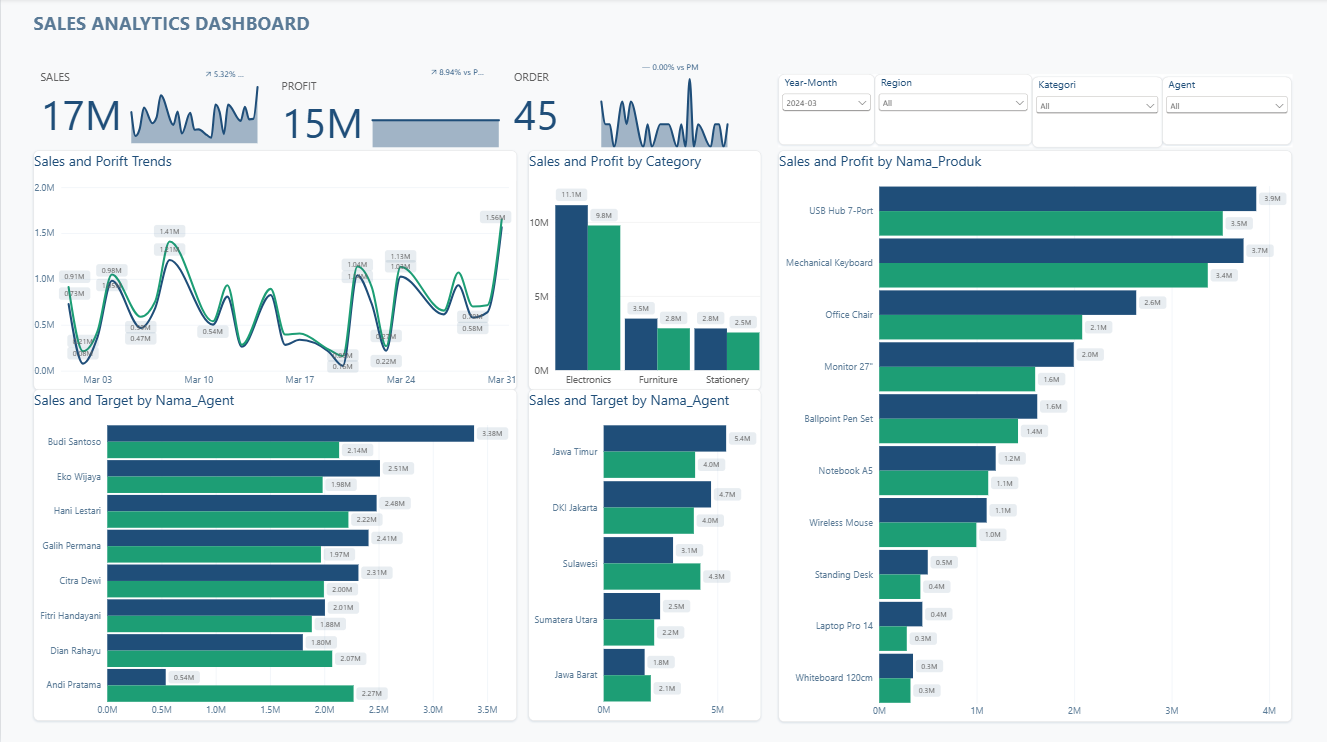

The dashboard page shown, as its layout file describes it:
{"tool":"powerbi","page":{"name":"Page 1","canvas":[1920,1080],"ordinal":0},"visuals":[{"type":"cardVisual","fields":{"Data":["Calendar.Sales CM"]},"box":[30,85.7,175.7,141.4],"z":0},{"type":"cardVisual","fields":{"Data":["Calendar.Sales MoM Label"]},"box":[270,85.7,109.9,48.5],"z":1000},{"type":"areaChart","fields":{"Y":["Sum(Fact_Transactions.Total_Sales)"],"Category":["Calendar.Date.Variation.Date Hierarchy.Year","Calendar.Date.Variation.Date Hierarchy.Quarter","Calendar.Date.Variation.Date Hierarchy.Month","Calendar.Date.Variation.Date Hierarchy.Day"]},"box":[168.6,91.4,222.7,128.5],"z":2000},{"type":"cardVisual","fields":{"Data":["Calendar.Orders CM"]},"box":[717.1,90,152.9,130],"z":3000},{"type":"cardVisual","fields":{"Data":["Calendar.Profit MoM Label"]},"box":[605.7,90,111.2,34.3],"z":4000},{"type":"cardVisual","fields":{"Data":["Calendar.Orders MoM Label"]},"box":[911.4,72.9,159.8,52.7],"z":5000},{"type":"cardVisual","fields":{"Data":["Calendar.Profit CM"]},"box":[380,108.6,224.3,118.6],"z":6000},{"type":"areaChart","fields":{"Category":["Calendar.Date.Variation.Date Hierarchy.Year","Calendar.Date.Variation.Date Hierarchy.Quarter","Calendar.Date.Variation.Date Hierarchy.Month","Calendar.Date.Variation.Date Hierarchy.Day"],"Y":["Calendar.Profit CM"]},"box":[517.1,98.6,222.7,128.5],"z":7000},{"type":"areaChart","fields":{"Category":["Calendar.Date.Variation.Date Hierarchy.Year","Calendar.Date.Variation.Date Hierarchy.Quarter","Calendar.Date.Variation.Date Hierarchy.Month","Calendar.Date.Variation.Date Hierarchy.Day"],"Y":["Calendar.Orders"]},"box":[848.6,98.6,222.7,128.5],"z":8000},{"type":"lineChart","title":"Sales and Porift Trends","fields":{"Category":["Calendar.Date.Variation.Date Hierarchy.Year","Calendar.Date.Variation.Date Hierarchy.Quarter","Calendar.Date.Variation.Date Hierarchy.Month","Calendar.Date.Variation.Date Hierarchy.Day"],"Y":["Sum(Fact_Transactions.Profit)","Calendar.Sales"]},"box":[47.1,220,700,347.1],"z":9000},{"type":"clusteredColumnChart","title":"Sales and Profit by Category","fields":{"Y":["Calendar.Sales CM","Calendar.Profit CM"],"Category":["Dim_Produk.Kategori"]},"box":[762.9,220,337.1,347.1],"z":10000},{"type":"clusteredBarChart","title":"Sales and Profit by Nama_Produk","fields":{"Category":["Dim_Produk.Nama_Produk"],"Y":["Calendar.Sales CM","Calendar.Profit CM"]},"box":[1125.7,220,742.9,827.1],"z":11000},{"type":"clusteredBarChart","title":"Sales and Target by Nama_Agent","fields":{"Category":["Dim_Agent.Nama_Agent"],"Y":["Calendar.Sales CM","Calendar.Target"]},"box":[47.1,567.1,700,480],"z":12000},{"type":"clusteredBarChart","title":"Sales and Target by Nama_Agent","fields":{"Y":["Calendar.Sales CM","Calendar.Target"],"Category":["Dim_Agent.Region"]},"box":[762.9,567.1,337.1,480],"z":13000},{"type":"textbox","box":[47.1,18.6,544.2,54.3],"z":14000},{"type":"slicer","fields":{"Values":["Calendar.Year-Month"]},"box":[1125.7,110,139.1,102.1],"z":14000,"group":"g1"},{"type":"group","id":"g1","title":"Group 1","box":[1125.7,110,742.9,105.7],"z":15000},{"type":"slicer","fields":{"Values":["Dim_Agent.Region"]},"box":[1264.8,110,227.7,102.1],"z":15000,"group":"g1"},{"type":"slicer","fields":{"Values":["Dim_Produk.Kategori"]},"box":[1492.5,113.6,188.5,102.1],"z":16000,"group":"g1"},{"type":"slicer","fields":{"Values":["Dim_Agent.Nama_Agent"]},"box":[1681,113.6,187.6,98.4],"z":17000,"group":"g1"}]}

Visuals, with their boxes in screenshot pixels (x1, y1, x2, y2), scaled from the page's 1920x1080 canvas onto the 1327x742 screenshot:
cardVisual - Calendar.Sales CM: locate(21, 59, 142, 156)
cardVisual - Calendar.Sales MoM Label: locate(187, 59, 263, 92)
areaChart - Sum(Fact_Transactions.Total_Sales) x Calendar.Date.Variation.Date Hierarchy.Year: locate(117, 63, 270, 151)
cardVisual - Calendar.Orders CM: locate(496, 62, 601, 151)
cardVisual - Calendar.Profit MoM Label: locate(419, 62, 495, 85)
cardVisual - Calendar.Orders MoM Label: locate(630, 50, 740, 86)
cardVisual - Calendar.Profit CM: locate(263, 75, 418, 156)
areaChart - Calendar.Date.Variation.Date Hierarchy.Year x Calendar.Date.Variation.Date Hierarchy.Quarter: locate(357, 68, 511, 156)
areaChart - Calendar.Date.Variation.Date Hierarchy.Year x Calendar.Date.Variation.Date Hierarchy.Quarter: locate(587, 68, 740, 156)
"Sales and Porift Trends" lineChart: locate(33, 151, 516, 390)
"Sales and Profit by Category" clusteredColumnChart: locate(527, 151, 760, 390)
"Sales and Profit by Nama_Produk" clusteredBarChart: locate(778, 151, 1291, 719)
"Sales and Target by Nama_Agent" clusteredBarChart: locate(33, 390, 516, 719)
"Sales and Target by Nama_Agent" clusteredBarChart: locate(527, 390, 760, 719)
textbox: locate(33, 13, 409, 50)
slicer - Calendar.Year-Month: locate(778, 76, 874, 146)
"Group 1" group: locate(778, 76, 1291, 148)
slicer - Dim_Agent.Region: locate(874, 76, 1032, 146)
slicer - Dim_Produk.Kategori: locate(1032, 78, 1162, 148)
slicer - Dim_Agent.Nama_Agent: locate(1162, 78, 1291, 146)
